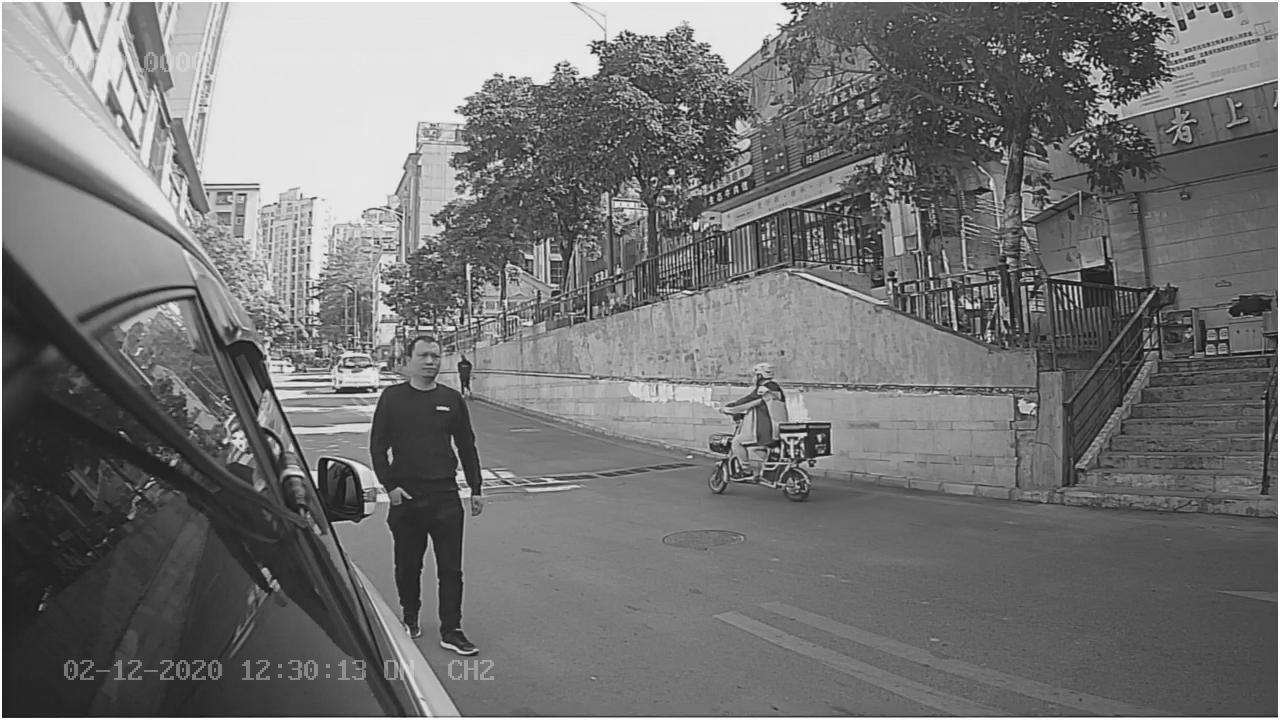person: (369, 325, 486, 469)
